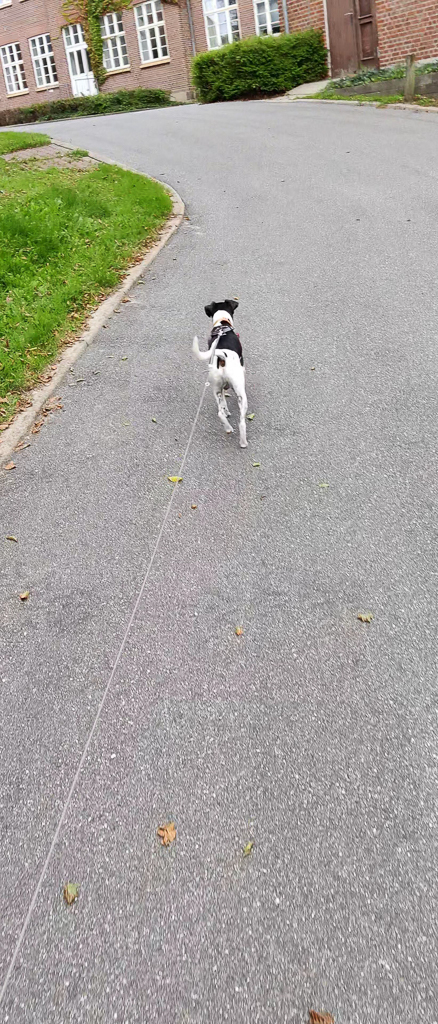Dog: (186, 295, 272, 456)
